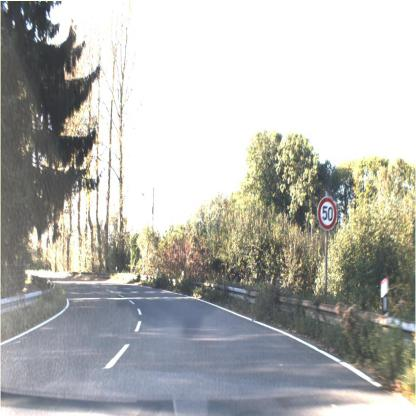prohibitory: (313, 190, 340, 238)
